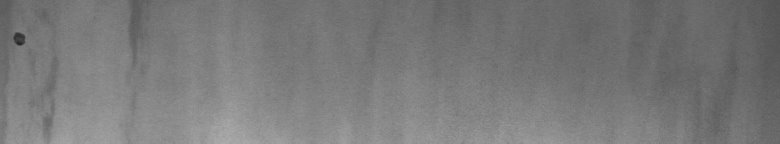fi: (4, 12, 57, 136)
